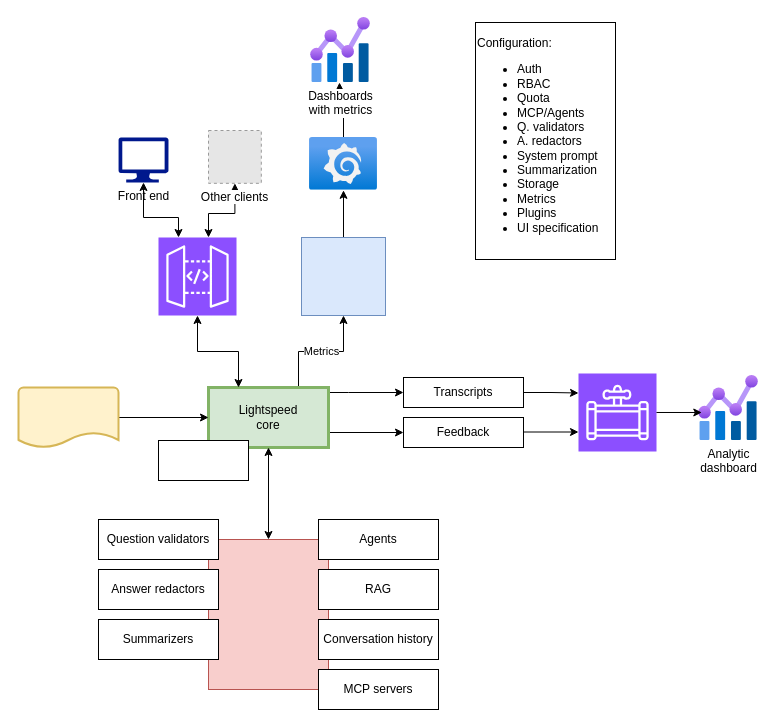
This 775x727 diagram has some shape labels left out. Grey dashed boxes stand in for pictures. The centre of each missing label's shape, as x and y in pixels:
Analytic pipeline: the point at 617,412
Configuration: the point at 68,417
Grafana: the point at 343,163
Human in loop controller: the point at 203,460
llama-stack: the point at 268,614
Prometheus: the point at 343,276
REST API: the point at 197,276
